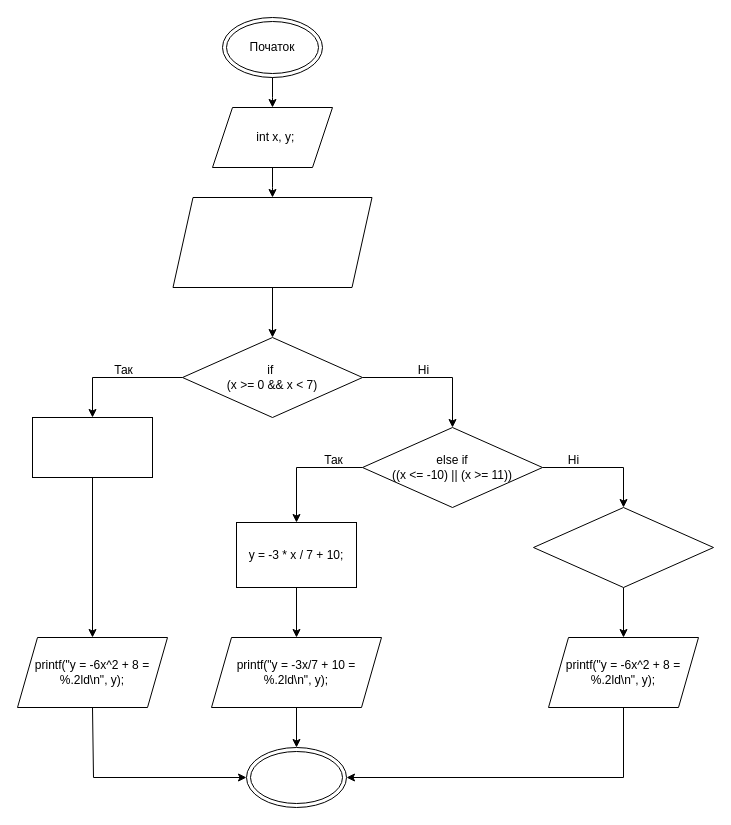
The diagram is 731 pixels wide and 825 high, and some of its shapes have lost their labels. Here are the shapes that lost their labels. From the top down, the centre of each, then its label:
the point at 272,242: printf("Welche number x: "); scanf_s("%ld", &x);("%ld", &x);
the point at 92,447: y = -6 * x * x + 8;
the point at 623,547: else if
the point at 296,777: Кінець return 0;
